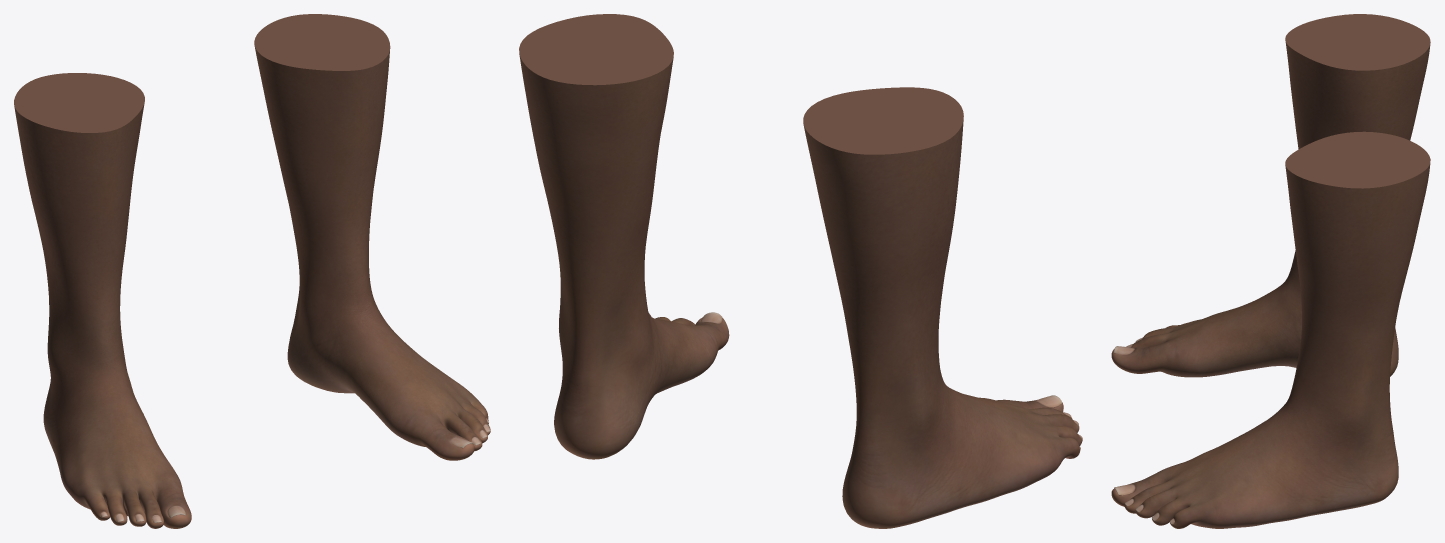
Rendered from female-feet-shins.glb.
The picture shows the model from 3 angles, left to right: view 1: azimuth 30°, elevation 25°; view 2: azimuth 150°, elevation 25°; view 3: azimuth 270°, elevation 25°; orthographic projection. The views are drawn at different scales.
Visible parts, largest first — view 1: LeftFootAndShin, RightFootAndShin; view 2: RightFootAndShin, LeftFootAndShin; view 3: LeftFootAndShin, RightFootAndShin.
Boxes of the visible parts, box(x1,y1,x2,y2) form: LeftFootAndShin: box(254, 14, 490, 460); RightFootAndShin: box(14, 73, 191, 528); RightFootAndShin: box(803, 87, 1082, 528); LeftFootAndShin: box(519, 14, 729, 459); LeftFootAndShin: box(1111, 131, 1430, 528); RightFootAndShin: box(1111, 14, 1430, 377).
Bounding box in the file's own units: 0.3583 × 0.2945 × 0.2506.
2 materials, 2 textured.
